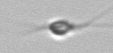plankton: (29, 15, 100, 39)
